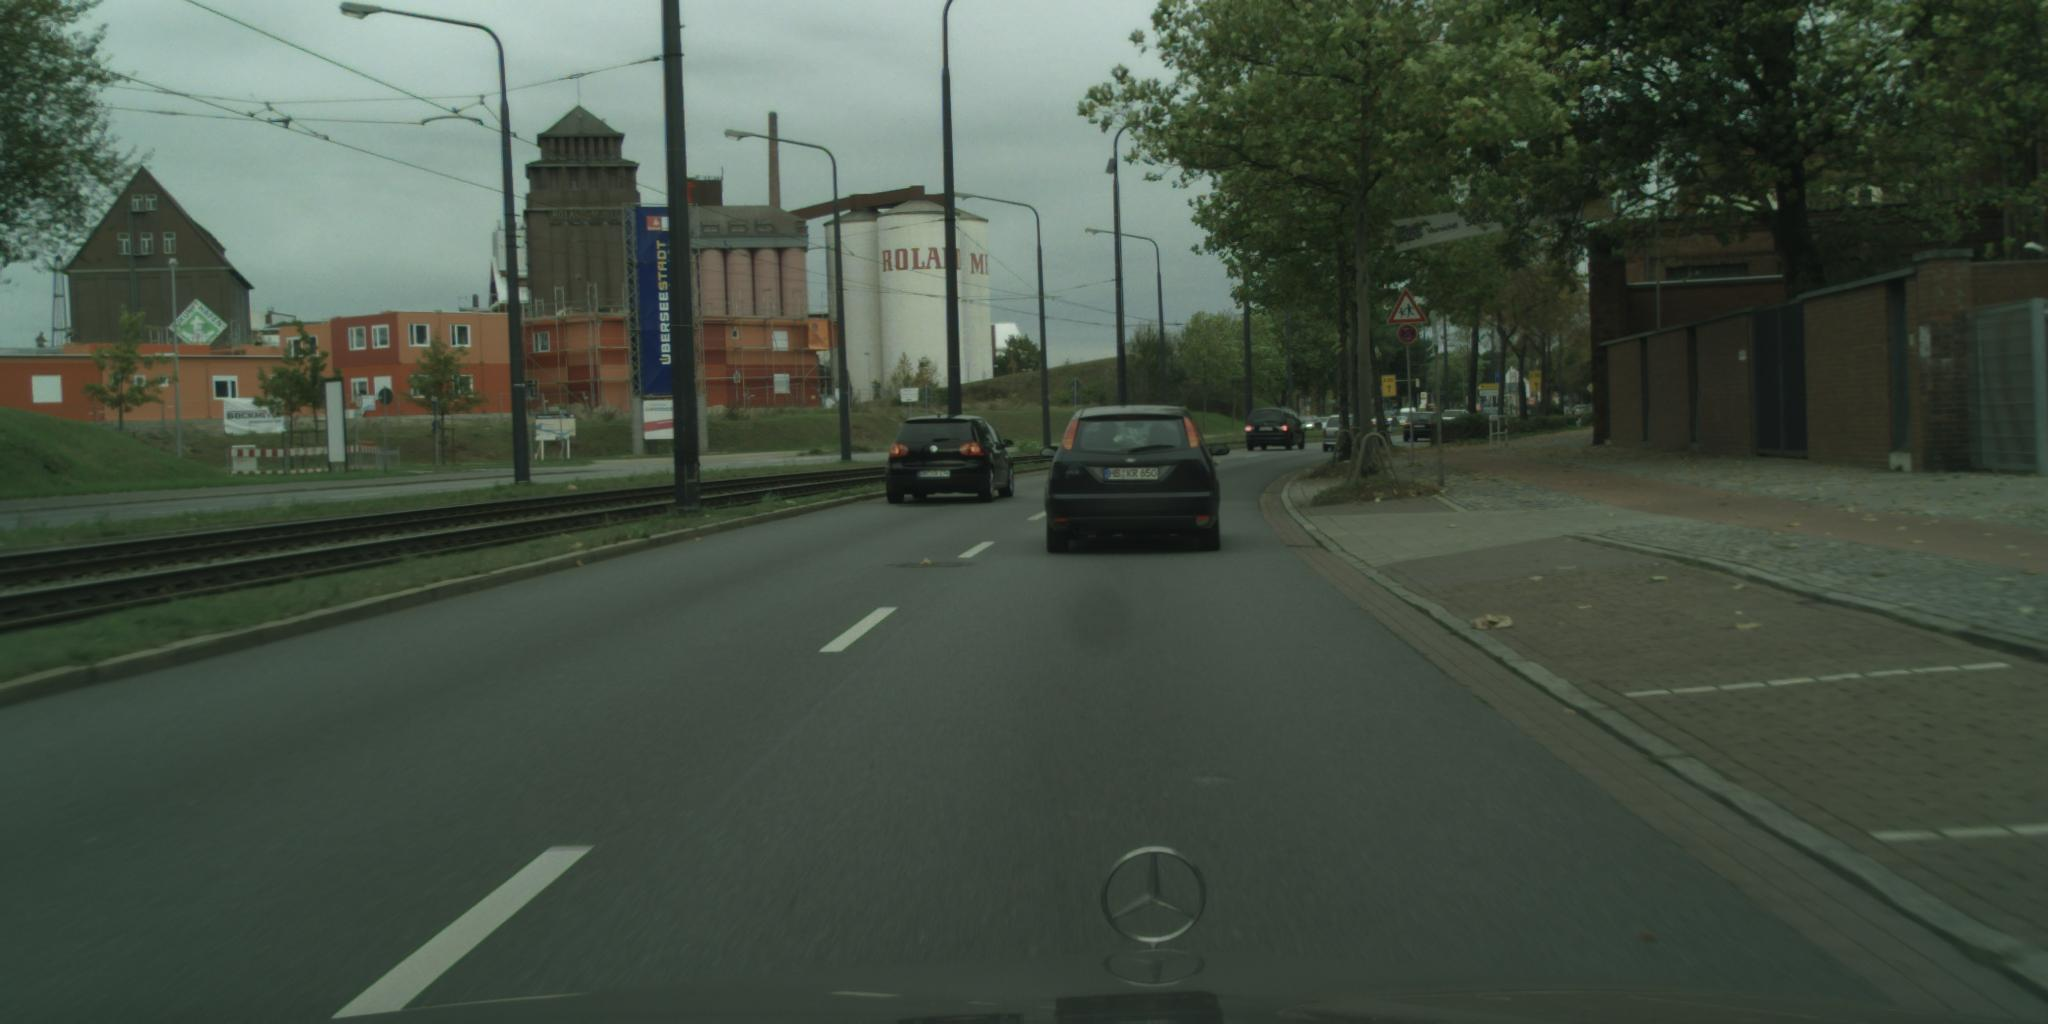car: (1040, 408, 1230, 556), (886, 415, 1016, 505), (1246, 409, 1307, 453), (1404, 411, 1439, 444), (1439, 411, 1471, 424)
